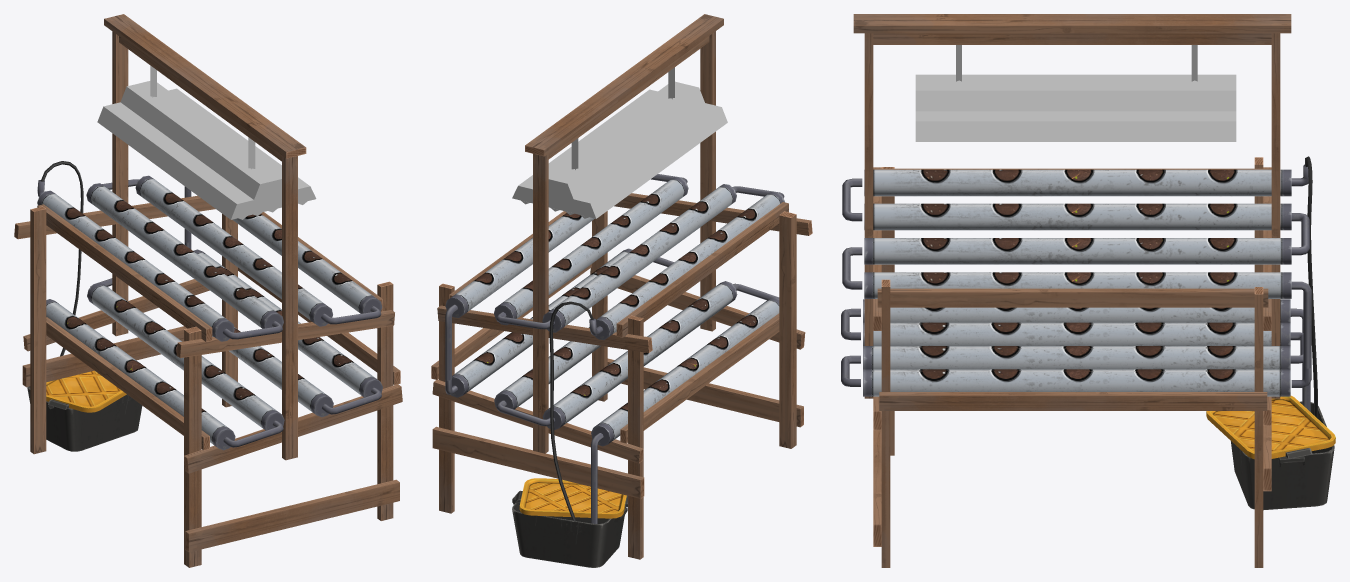
Rendered from hydroponics_H02.fbx.
3 views of the same model, side by side, from view 1: azimuth 30°, elevation 25°; view 2: azimuth 150°, elevation 25°; view 3: azimuth 270°, elevation 25° (orthographic). The views are drawn at different scales.
Parts seen in each view (by area): view 1: hydroponics_H02, hydroponics_H02_lamp; view 2: hydroponics_H02, hydroponics_H02_lamp; view 3: hydroponics_H02, hydroponics_H02_lamp.
Boxes of the visible parts, x1=… form: hydroponics_H02: x1=14, y1=161, x2=402, y2=567; hydroponics_H02_lamp: x1=97, y1=14, x2=316, y2=460; hydroponics_H02: x1=431, y1=174, x2=812, y2=567; hydroponics_H02_lamp: x1=512, y1=14, x2=727, y2=453; hydroponics_H02: x1=841, y1=156, x2=1335, y2=567; hydroponics_H02_lamp: x1=853, y1=14, x2=1291, y2=398.
Bounding box in the file's own units: 1.45 × 2.5 × 2.31.
